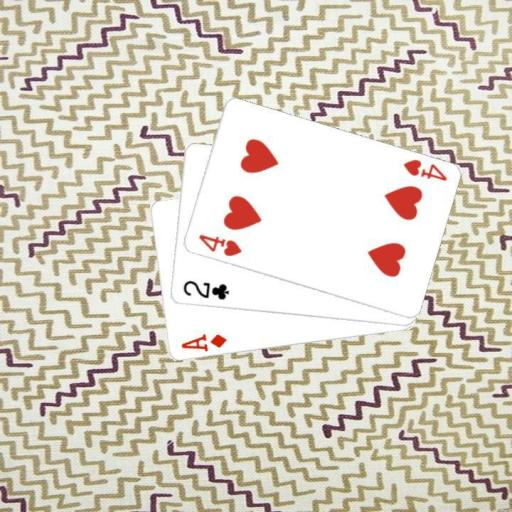2C: (180, 278, 231, 302)
4H: (400, 156, 448, 183), (195, 231, 242, 258)
AD: (178, 331, 228, 354)
